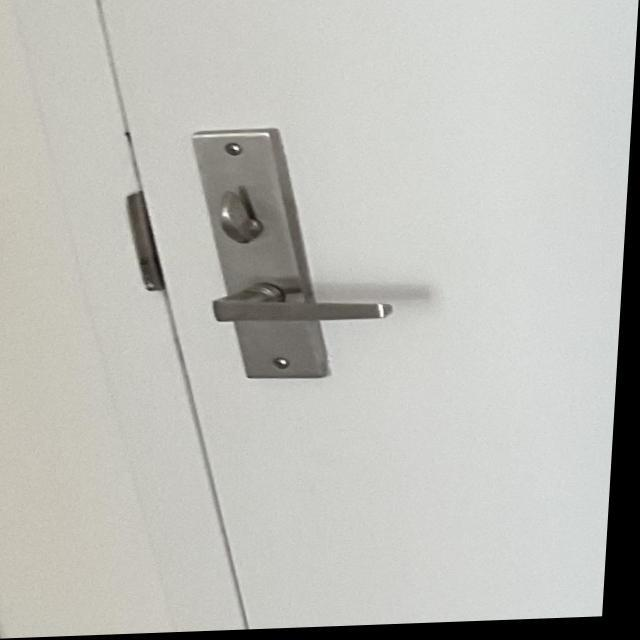door_handle: (197, 264, 414, 352)
